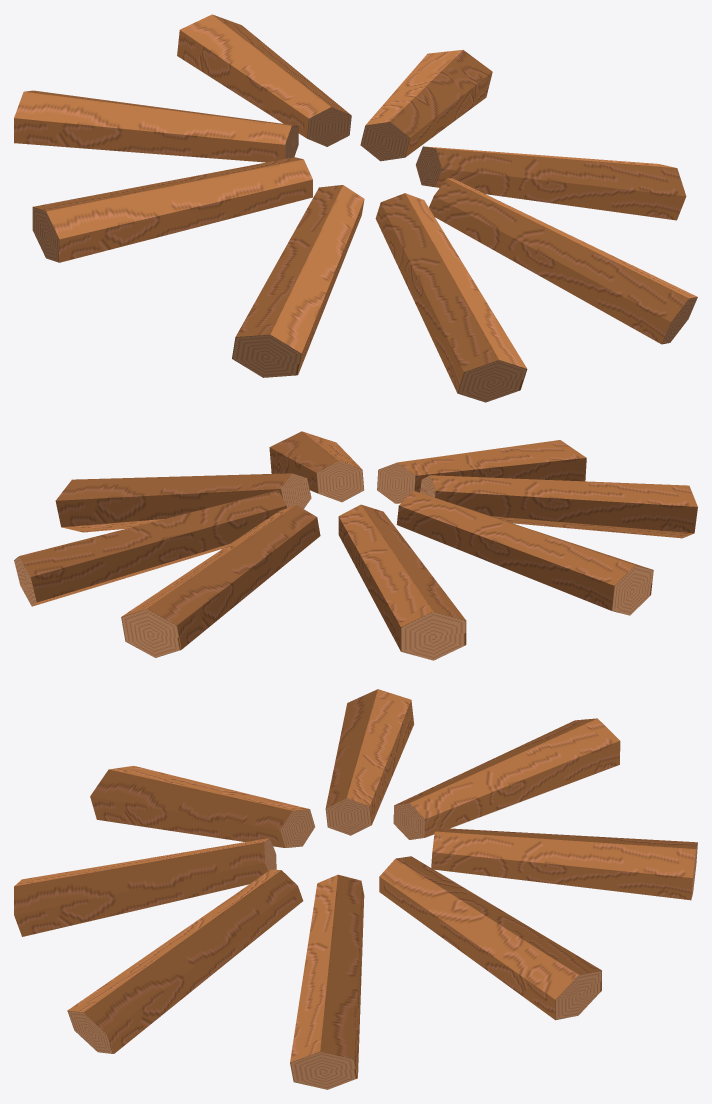
Rendered from Hoguera_Textured.fbx.
The picture shows the model from 3 angles, top to bottom: view 1: azimuth 30°, elevation 25°; view 2: azimuth 150°, elevation 25°; view 3: azimuth 270°, elevation 25°; orthographic projection. The views are drawn at different scales.
Parts seen in each view (by area): view 1: Hoguera.004; view 2: Hoguera.004; view 3: Hoguera.004.
Part boxes in pixels (x1,y1,x2,y2): Hoguera.004: (14,14,697,402); Hoguera.004: (14,431,697,660); Hoguera.004: (14,689,697,1089).
Size of the model in its own units: 617 by 153 by 627.
